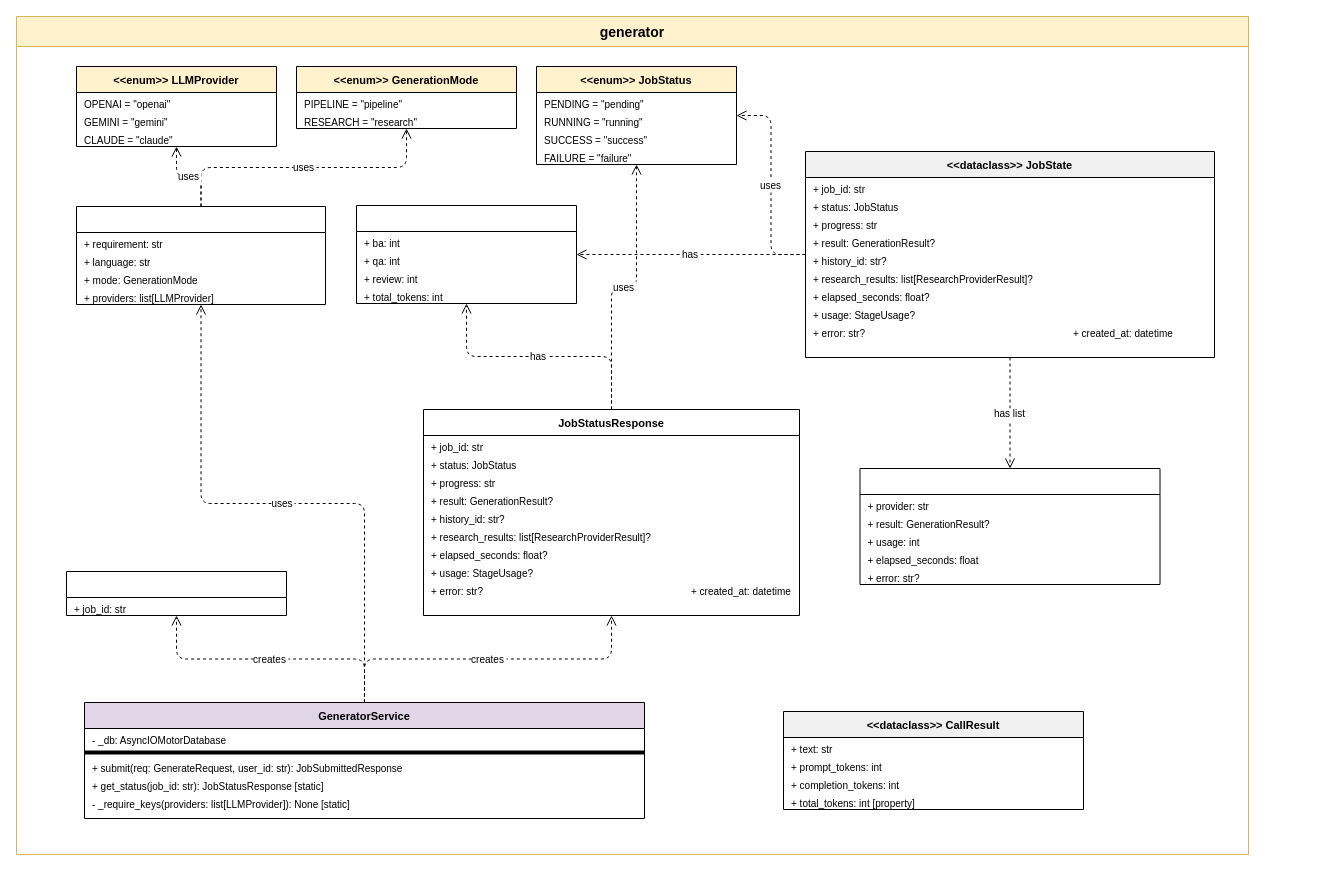
Image size: 1342x871. Some labels were removed from this diagram. The shapes that lost their labels are listed below. From the top down, each one's box as (x1, y1, x2, y2) in pixels, then its label:
(76, 206, 326, 304): GenerateRequest
(356, 204, 576, 304): StageUsage
(859, 468, 1160, 584): ResearchProviderResult
(66, 570, 286, 616): JobSubmittedResponse
